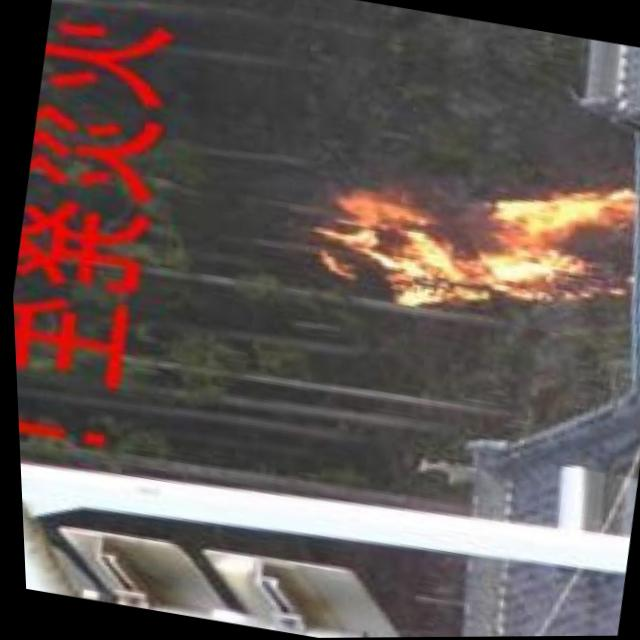Fire: (311, 135, 640, 354)
